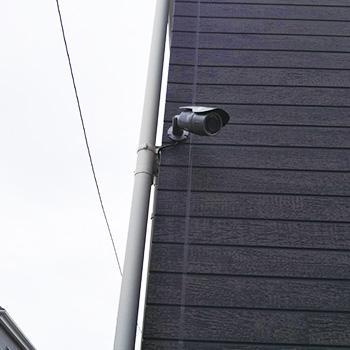tutu: (166, 93, 233, 145)
